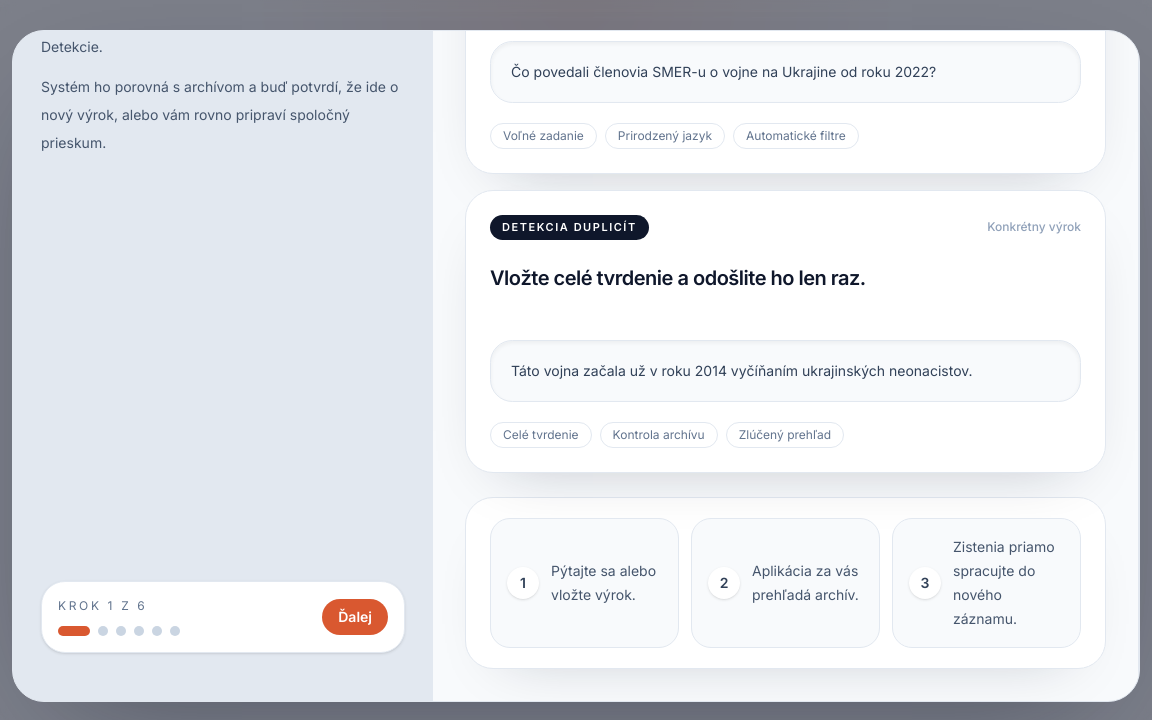
HomeOnboarding › navigates forward and backward across steps
(page scrolled)
Click the button "Ďalej" at x=355, y=616, box [322,598,388,634]
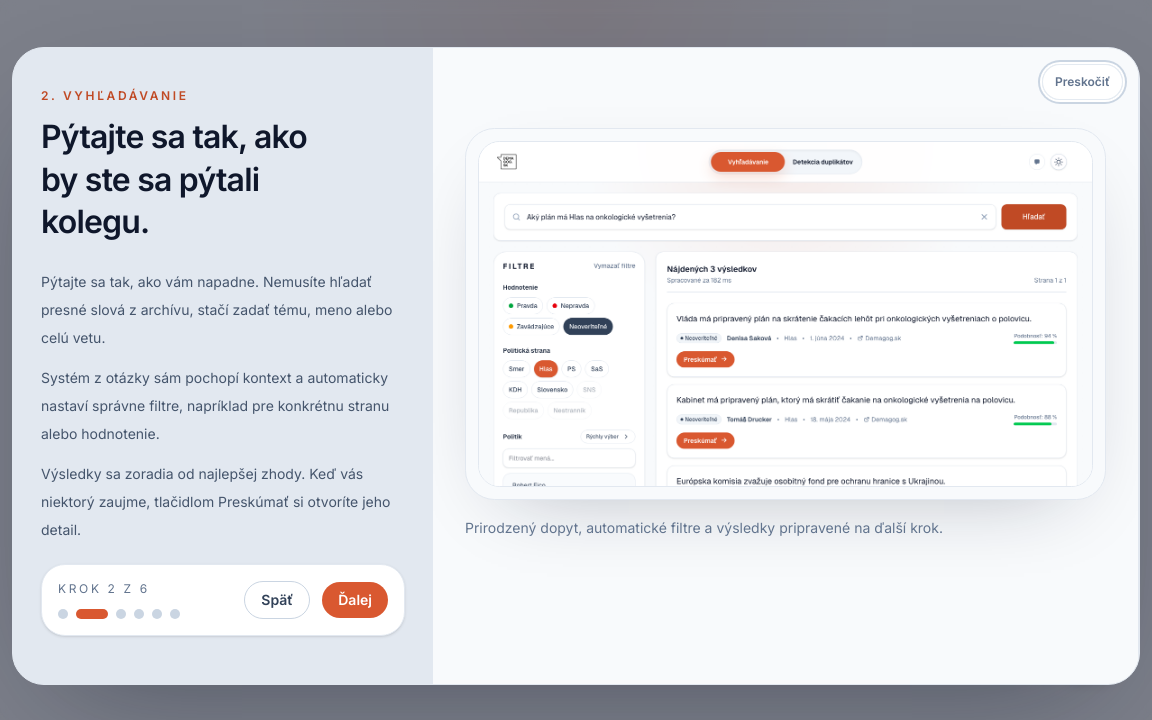
Check: the heading "Pýtajte sa tak, ako by ste sa pýtali kolegu." is shown, box [41,116,349,244]
Check: the text "2. Vyhľadávanie" is shown, box [41,88,189,103]
Click the button "Späť" at x=277, y=600, box [244,581,310,619]
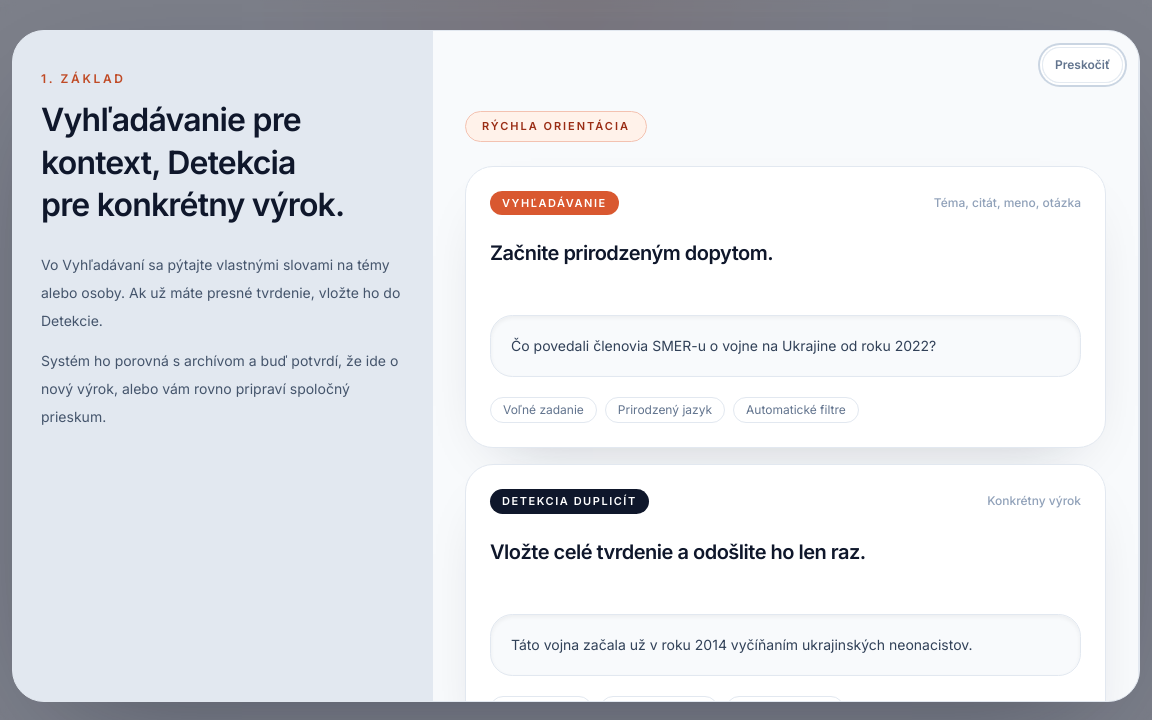
Check: the heading "Vyhľadávanie pre kontext, Detekcia pre konkrétny výrok." is shown, box [41,99,349,227]
Check: the text "1. Základ" is shown, box [41,71,126,86]
